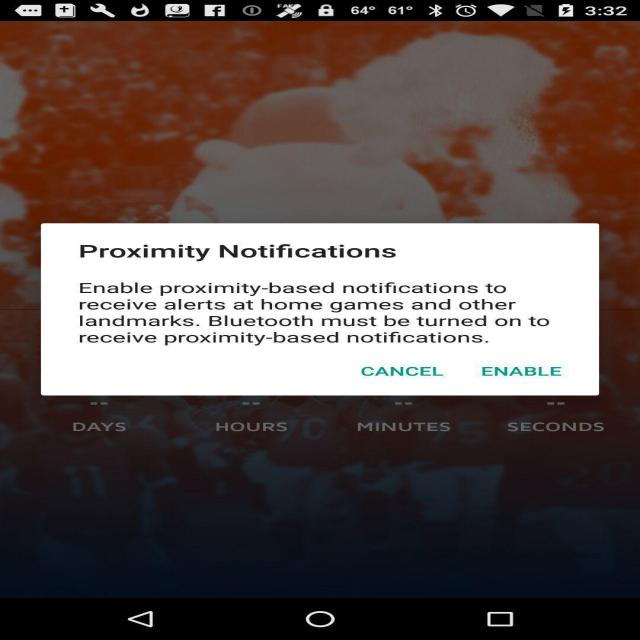button: (349, 357, 468, 387), (474, 359, 584, 387)
text: (70, 270, 558, 350), (78, 239, 434, 268)
